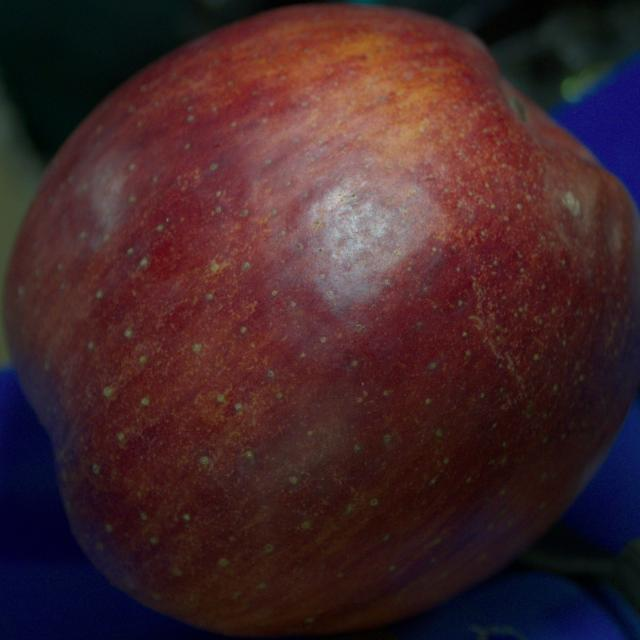apple: (4, 4, 639, 636)
